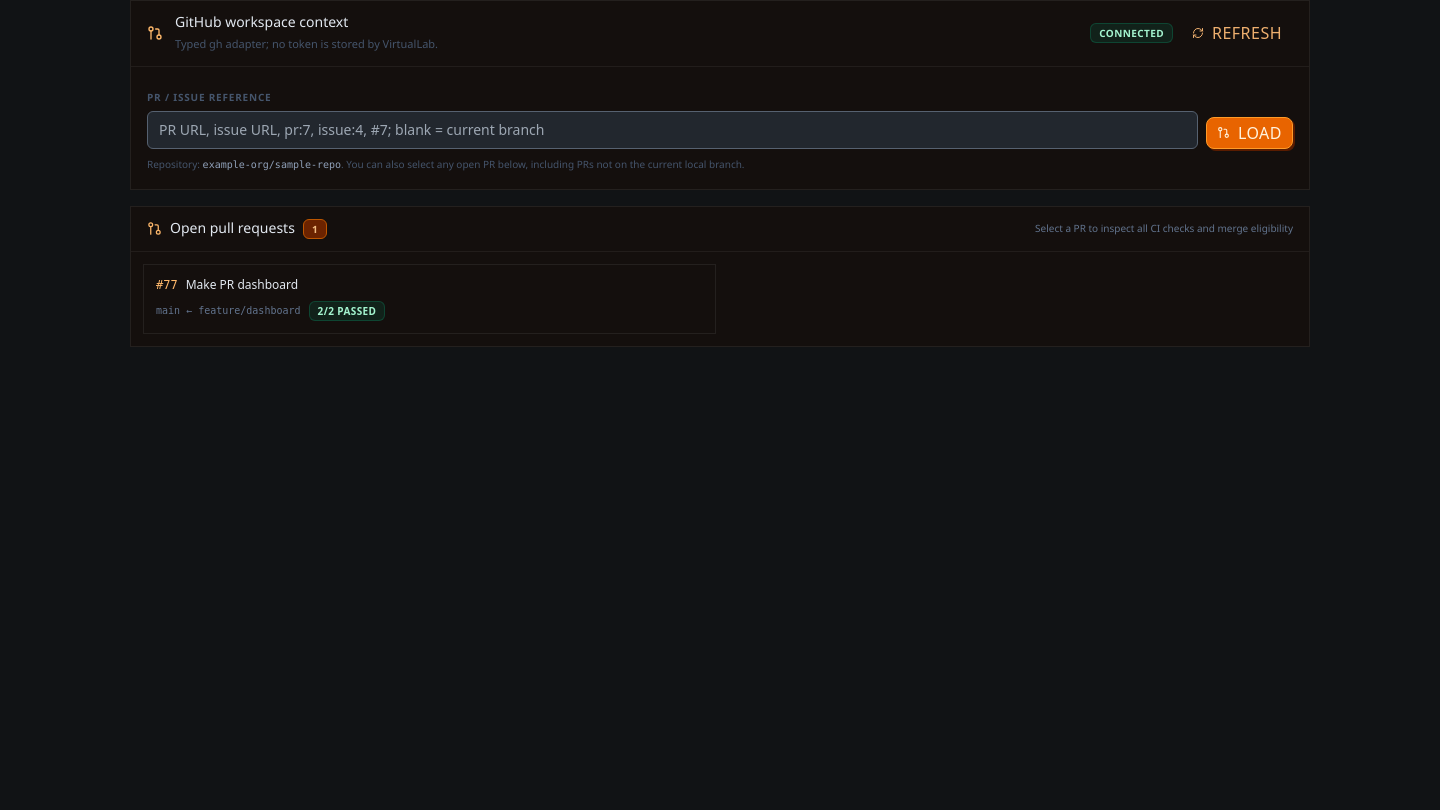
Scenario: GithubPanel › lists PRs independent of the local branch and displays every CI check
The image size is (1440, 810).
Step 1. Click the button with aria-label "Open PR #77" → click(242, 284), box x1=143 y1=264 x2=716 y2=334
(page scrolled)
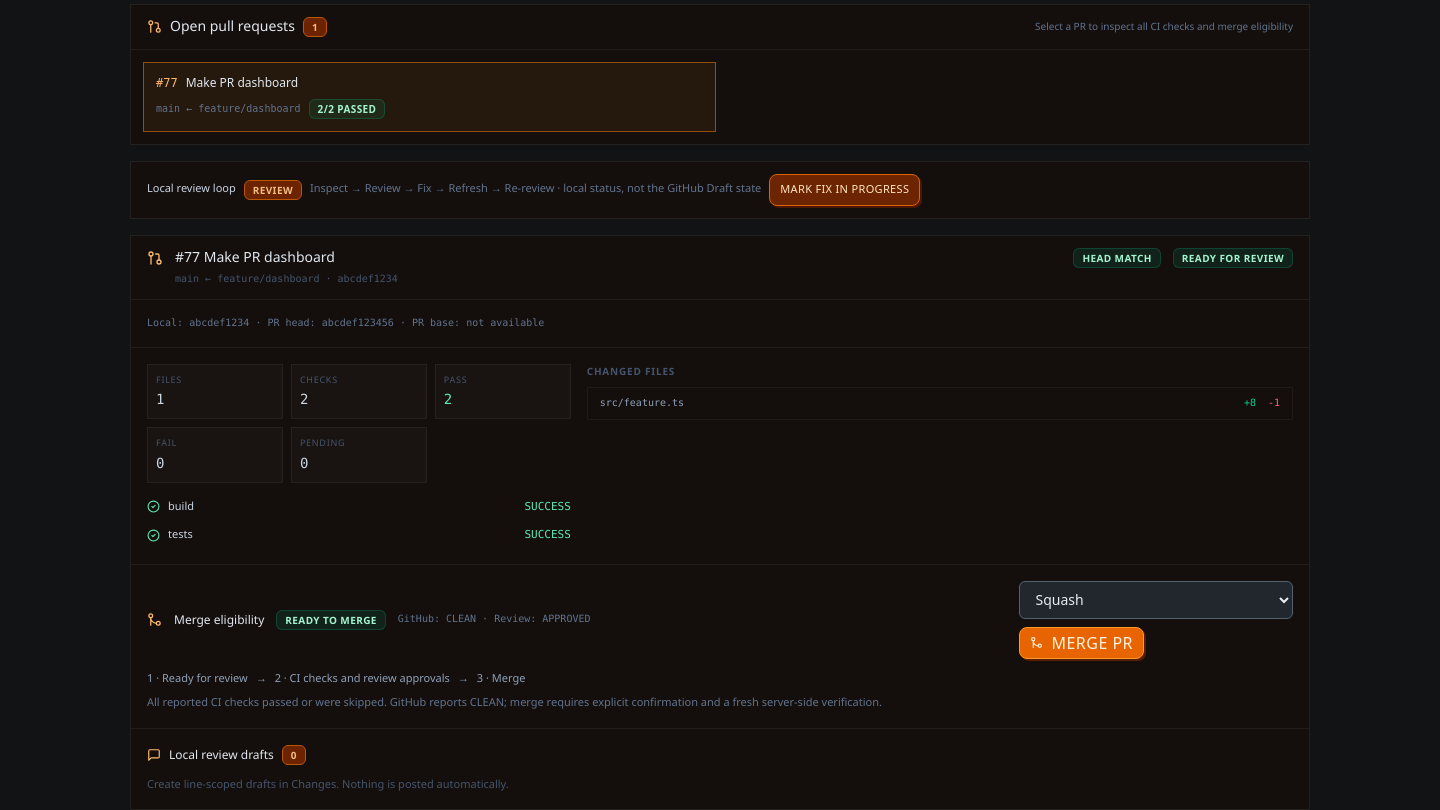
Result: the text "#77 Make PR dashboard" is shown at x1=175 y1=248 x2=335 y2=266
Result: the link "tests" is shown at x1=168 y1=527 x2=193 y2=542
Result: the button "Merge PR" is enabled at x1=1020 y1=626 x2=1144 y2=658
